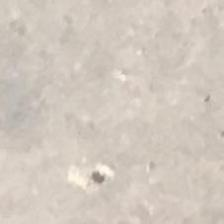Non_Crack: (52, 10, 224, 185)
